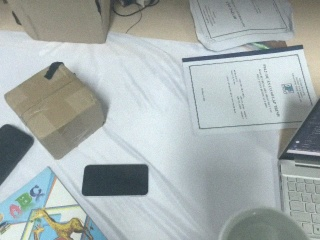book: (1, 163, 120, 240)
box: (4, 59, 108, 161), (6, 1, 113, 46)
cup: (214, 203, 314, 240)
phone: (81, 160, 151, 203), (1, 122, 35, 193)
